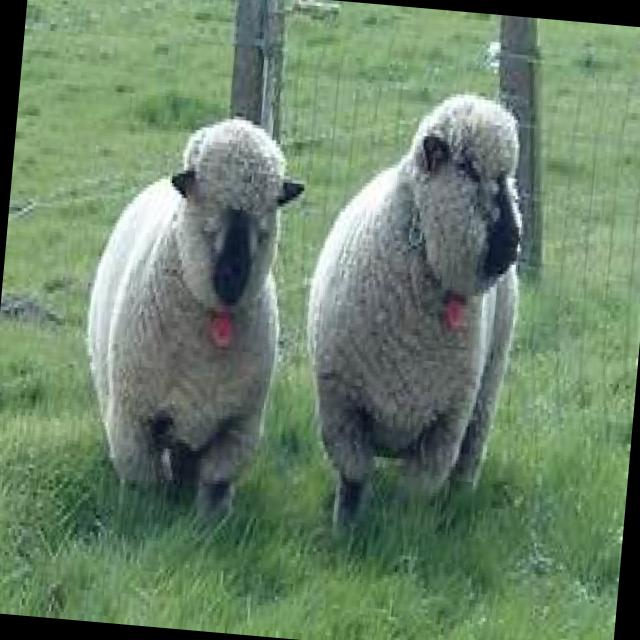sheep: (289, 84, 534, 541), (68, 103, 297, 522)
